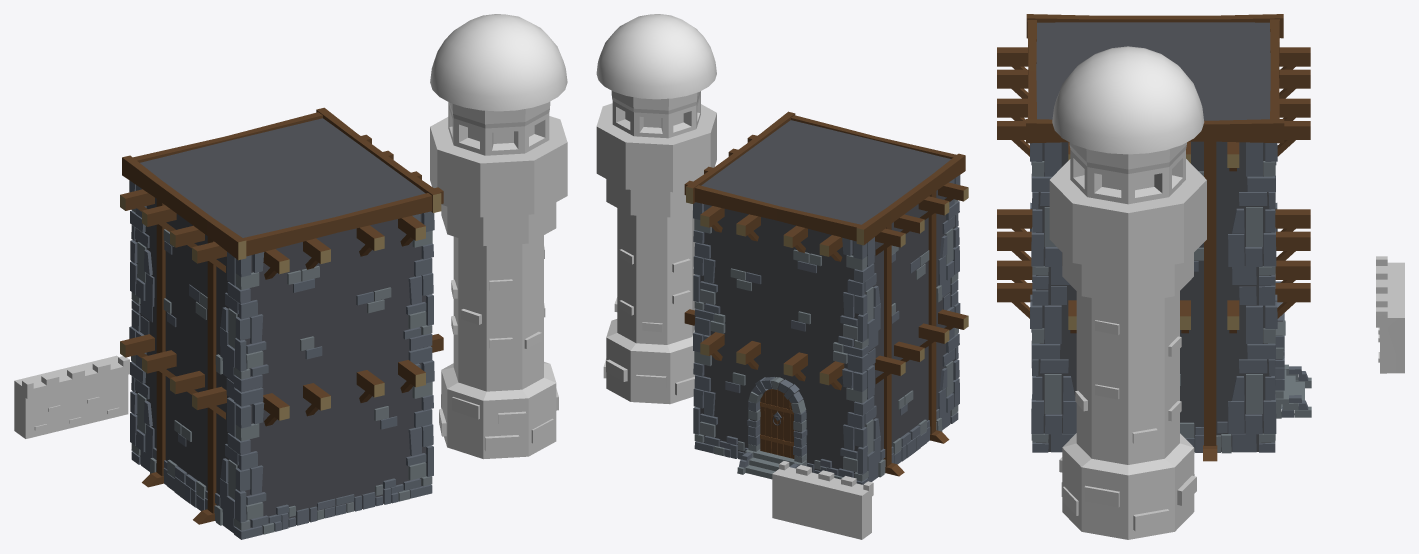
The model's file is london_scholar_3.glb.
3 views of the same model, side by side, from view 1: azimuth 30°, elevation 25°; view 2: azimuth 150°, elevation 25°; view 3: azimuth 270°, elevation 25° (orthographic). The views are drawn at different scales.
Parts seen in each view (by area): view 1: House_3, Tower_Cylinder.004, dome, WallBricks_Cube.038; view 2: House_3, Tower_Cylinder.004, dome, WallBricks_Cube.038; view 3: House_3, Tower_Cylinder.004, dome, WallBricks_Cube.038.
Part boxes in pixels (bbox=[...]): House_3: bbox=[120, 107, 443, 539]; Tower_Cylinder.004: bbox=[430, 101, 567, 459]; dome: bbox=[430, 14, 567, 111]; WallBricks_Cube.038: bbox=[14, 355, 129, 438]; House_3: bbox=[684, 111, 968, 484]; Tower_Cylinder.004: bbox=[596, 91, 716, 404]; dome: bbox=[596, 14, 716, 99]; WallBricks_Cube.038: bbox=[772, 461, 873, 539]; House_3: bbox=[997, 14, 1311, 461]; Tower_Cylinder.004: bbox=[1049, 142, 1206, 539]; dome: bbox=[1052, 46, 1204, 154]; WallBricks_Cube.038: bbox=[1376, 256, 1404, 373].
Bounding box in the file's own units: 20.5 × 19.3 × 15.55.
